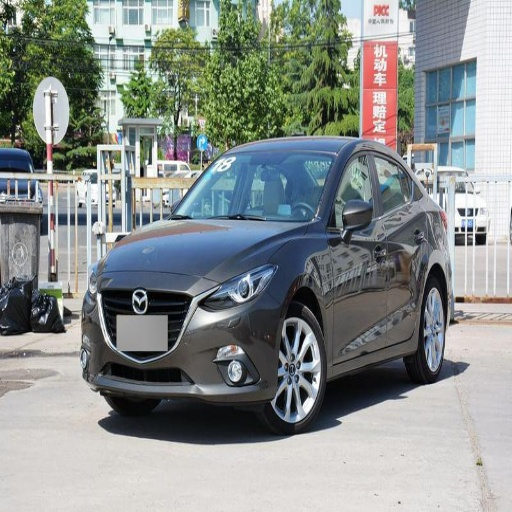back_glass: (371, 148, 425, 343)
back_right_light: (82, 274, 283, 404)
front_bumper: (170, 143, 337, 221)
front_glass: (329, 146, 388, 363)
front_left_door: (197, 264, 275, 311)
front_right_light: (100, 220, 304, 282)
trunk: (261, 304, 326, 433), (410, 279, 446, 382)
